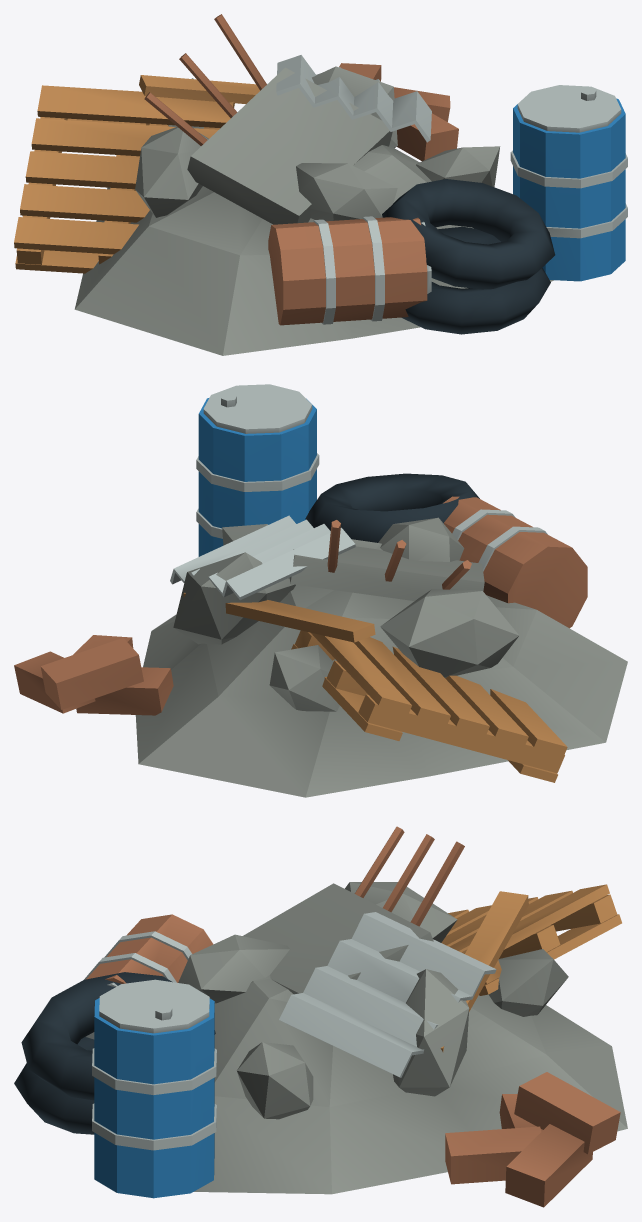
The model's file is industrial-waste-low.glb.
3 views of the same model, one above another, from view 1: azimuth 30°, elevation 25°; view 2: azimuth 150°, elevation 25°; view 3: azimuth 270°, elevation 25° (orthographic). The views are drawn at different scales.
Visible parts, largest first — view 1: rubble mound, pallet deck board, bent rebar, discarded tyre, drum rolling hoop, steel drum; view 2: rubble mound, pallet deck board, bent rebar, drum rolling hoop, steel drum, discarded tyre; view 3: rubble mound, drum rolling hoop, bent rebar, steel drum, pallet deck board, discarded tyre.
Boxes of the visible parts, x1=… form: rubble mound: x1=74, y1=66, x2=553, y2=355; pallet deck board: x1=14, y1=75, x2=259, y2=273; bent rebar: x1=144, y1=14, x2=458, y2=325; discarded tyre: x1=382, y1=179, x2=555, y2=334; drum rolling hoop: x1=276, y1=55, x2=627, y2=324; steel drum: x1=513, y1=98, x2=625, y2=281; rubble mound: x1=135, y1=517, x2=627, y2=797; pallet deck board: x1=183, y1=592, x2=567, y2=782; bent rebar: x1=14, y1=496, x2=587, y2=715; drum rolling hoop: x1=170, y1=384, x2=547, y2=600; steel drum: x1=198, y1=398, x2=316, y2=556; discarded tyre: x1=305, y1=473, x2=479, y2=542; rubble mound: x1=178, y1=882, x2=627, y2=1194; drum rolling hoop: x1=84, y1=912, x2=496, y2=1150; bent rebar: x1=86, y1=826, x2=620, y2=1207; steel drum: x1=94, y1=998, x2=214, y2=1198; pallet deck board: x1=440, y1=884, x2=621, y2=1052; discarded tyre: x1=14, y1=972, x2=215, y2=1134.
Size of the model in its own units: 1.03 by 0.4178 by 1.03.
